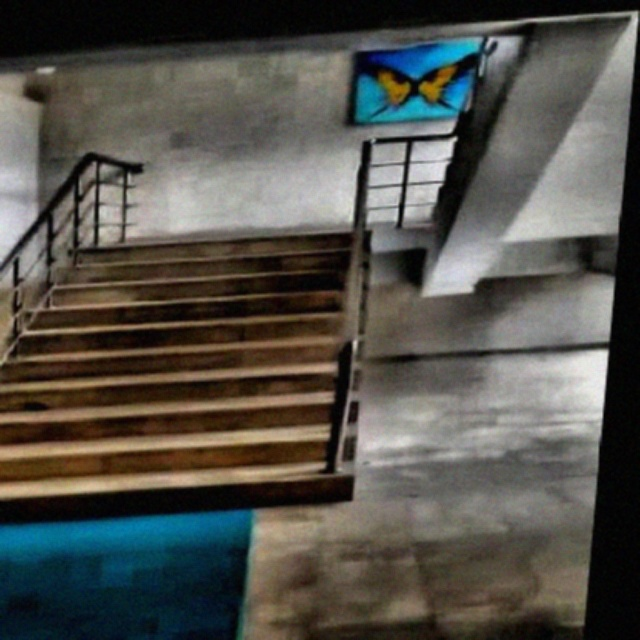stair: (2, 225, 384, 520)
